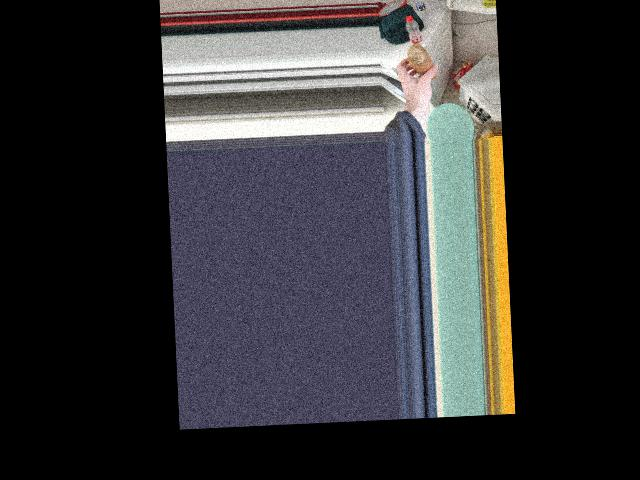sweet_potato: (405, 45, 439, 85)
